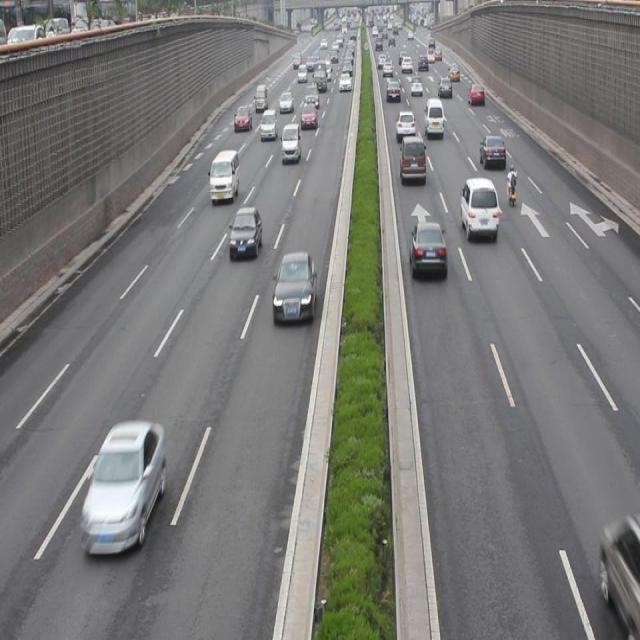car: (83, 417, 166, 554), (600, 515, 640, 640), (274, 249, 316, 321), (409, 219, 446, 273), (230, 205, 261, 258), (480, 132, 505, 167), (395, 108, 416, 140), (234, 105, 251, 132), (300, 102, 316, 130)
truck: (460, 177, 499, 238), (208, 148, 239, 203), (400, 135, 425, 185), (280, 123, 300, 163), (424, 97, 444, 136), (260, 107, 276, 138)
